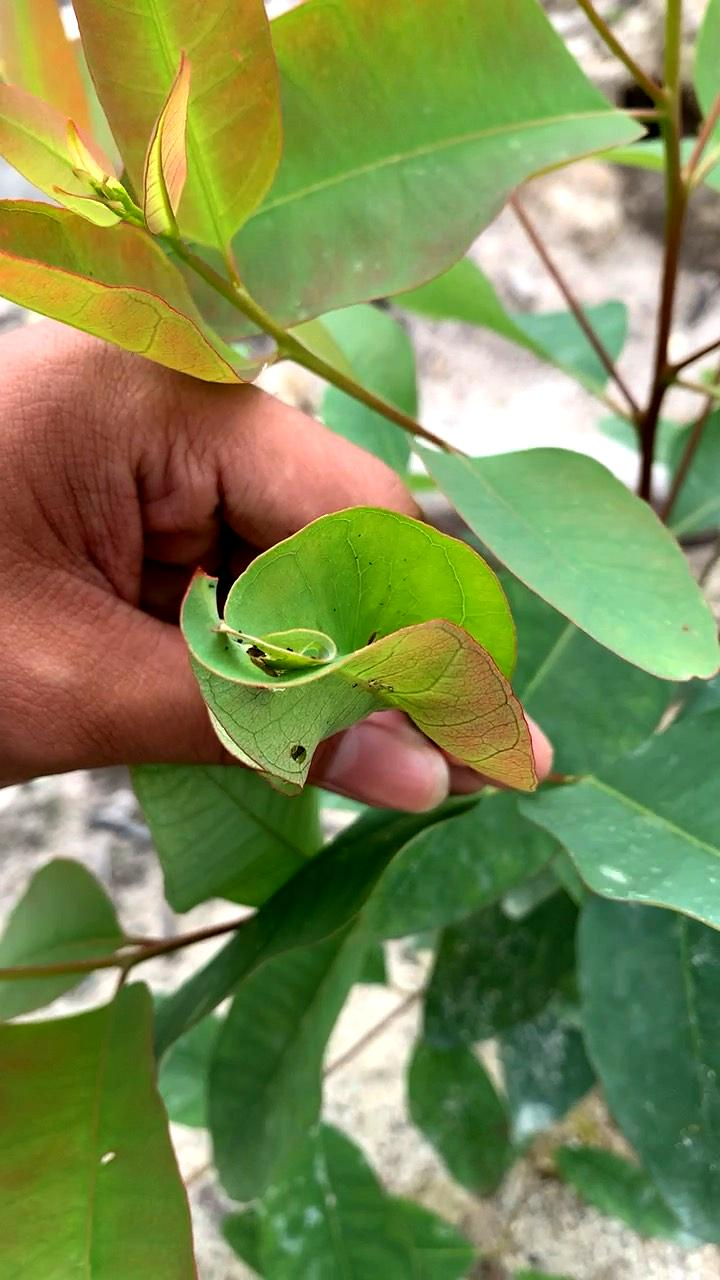Leaf Roller - Leaf: (177, 483, 556, 850)
